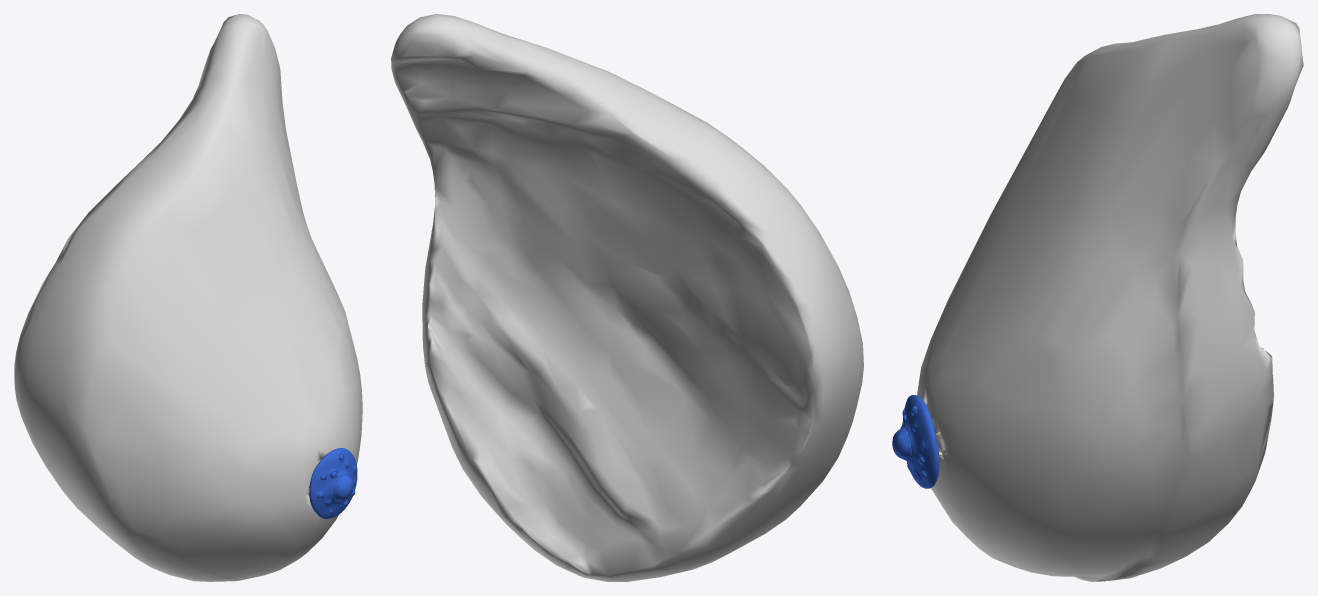
The model's file is 3d-vh-f-mammary-gland-l-20.fbx.
The picture shows the model from 3 angles, left to right: view 1: azimuth 30°, elevation 25°; view 2: azimuth 150°, elevation 25°; view 3: azimuth 270°, elevation 25°; orthographic projection. The views are drawn at different scales.
Parts seen in each view (by area): view 1: VH_F_fat_L, VH_F_areola_L; view 2: VH_F_fat_L; view 3: VH_F_fat_L, VH_F_areola_L, VH_F_nipple_L.
Part boxes in pixels (<box>): VH_F_fat_L: <box>14,14,362,581</box>; VH_F_areola_L: <box>309,448,357,518</box>; VH_F_fat_L: <box>391,14,863,581</box>; VH_F_fat_L: <box>917,14,1303,581</box>; VH_F_areola_L: <box>900,395,939,488</box>; VH_F_nipple_L: <box>892,427,912,463</box>.
Bounding box in the file's own units: 12.81 × 18.19 × 11.19.
